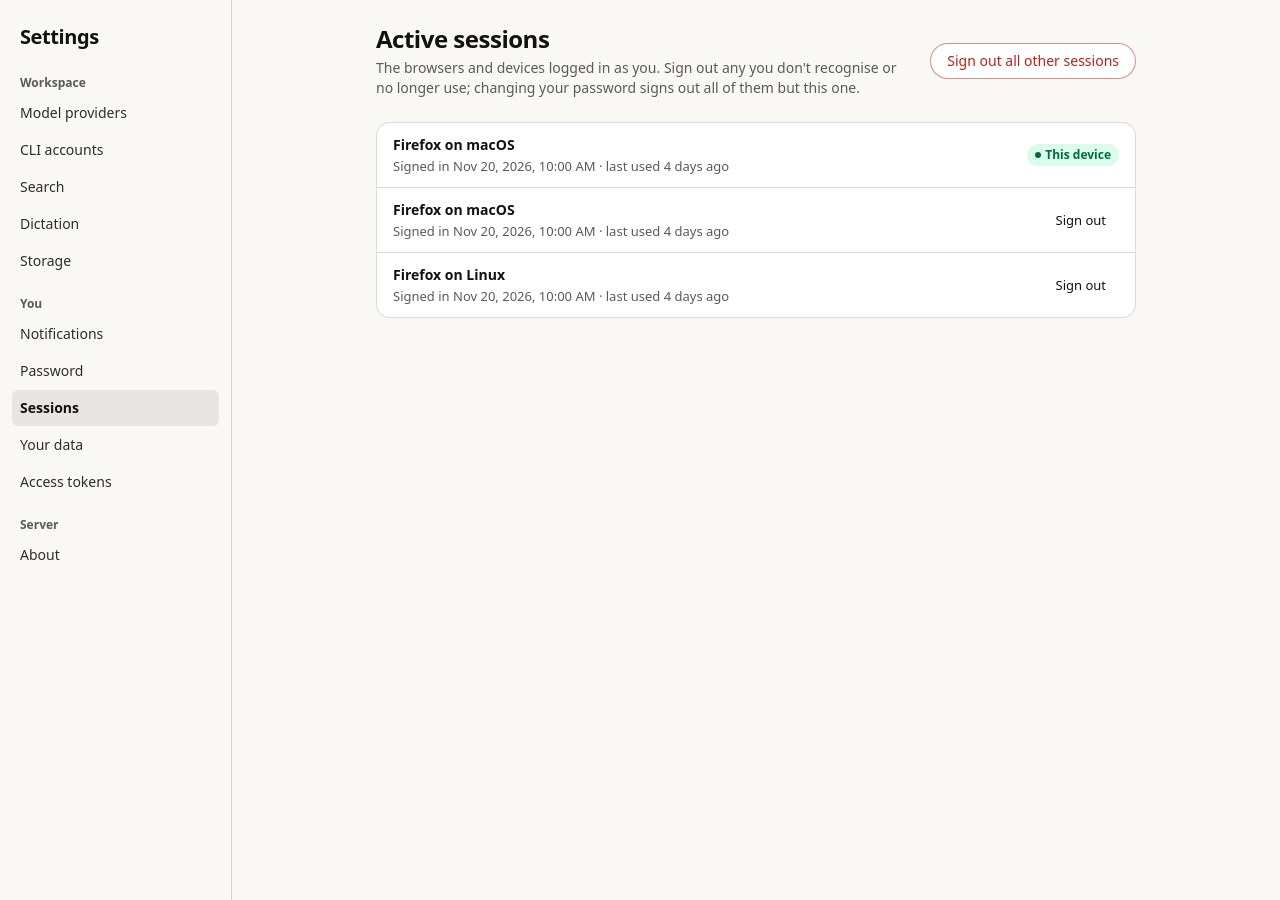
Test: signing out all the others is offered only with others, and asks first
Expected: the list named "Your sessions" is shown, [377,123,1135,317]
Click the button "Sign out all other sessions". click: (1033, 61)
box: [930,43,1136,79]
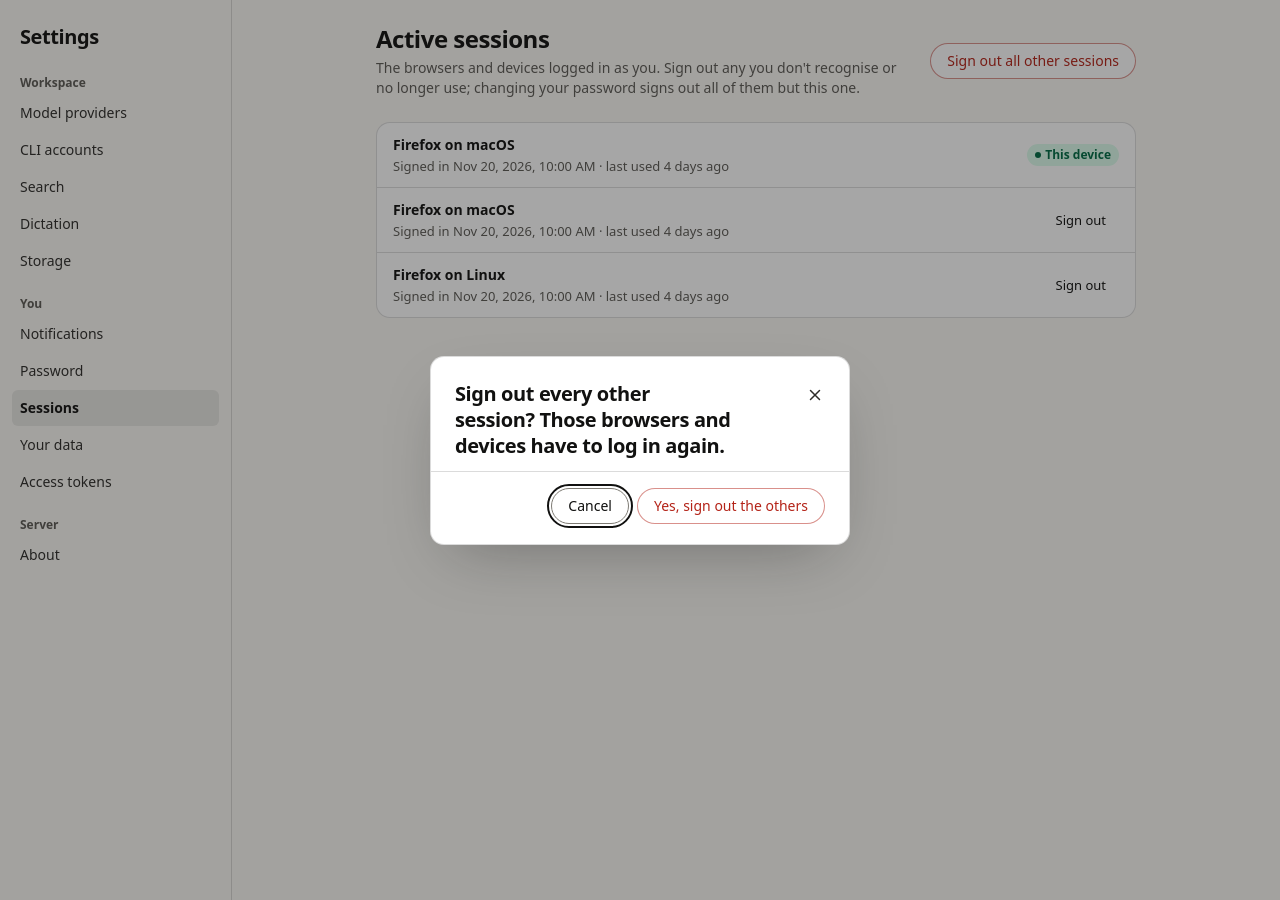
Click the button "Yes, sign out the others". click: (731, 506)
box: [637,488,825,524]
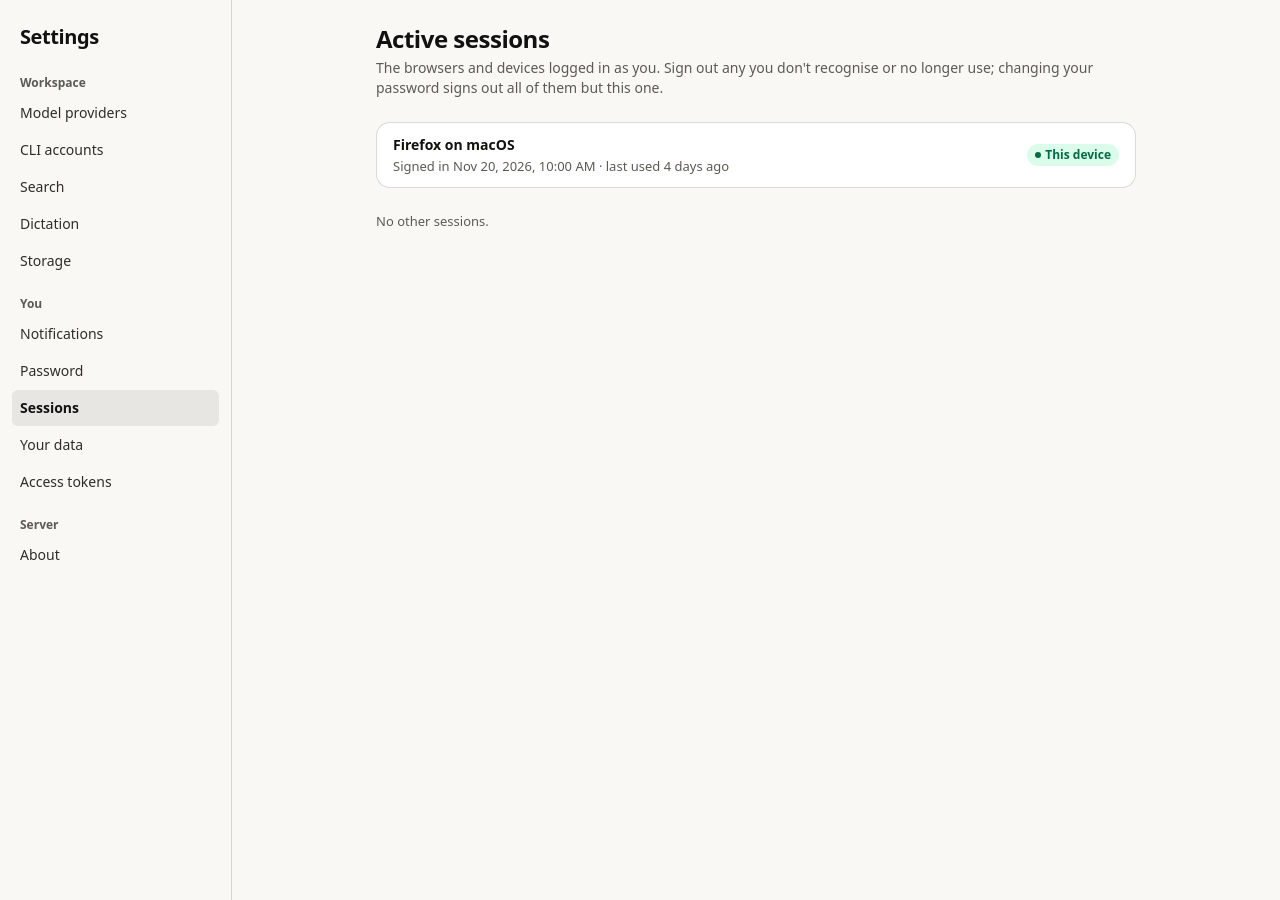
Result: the text "No other sessions." is shown at [376,212,489,230]
